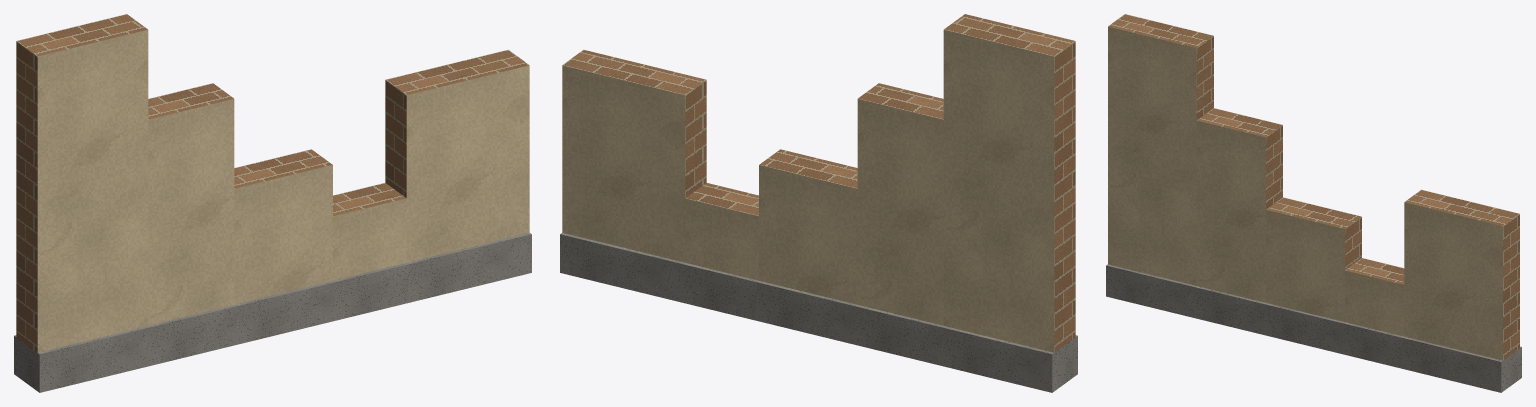
File: wall-broken-4m.glb
3 renders of one model, left to right at view 1: azimuth 30°, elevation 25°; view 2: azimuth 150°, elevation 25°; view 3: azimuth 330°, elevation 25°, orthographic. The views are drawn at different scales.
Visible parts, largest first — view 1: wall-broken-4m; view 2: wall-broken-4m; view 3: wall-broken-4m.
Boxes of the visible parts, x1,y1,x2,y2 form: wall-broken-4m: (14, 14, 531, 392); wall-broken-4m: (560, 14, 1077, 392); wall-broken-4m: (1106, 14, 1521, 392).
Size of the model in its own units: 4 by 2.6 by 0.36.
1 material, 1 textured.
